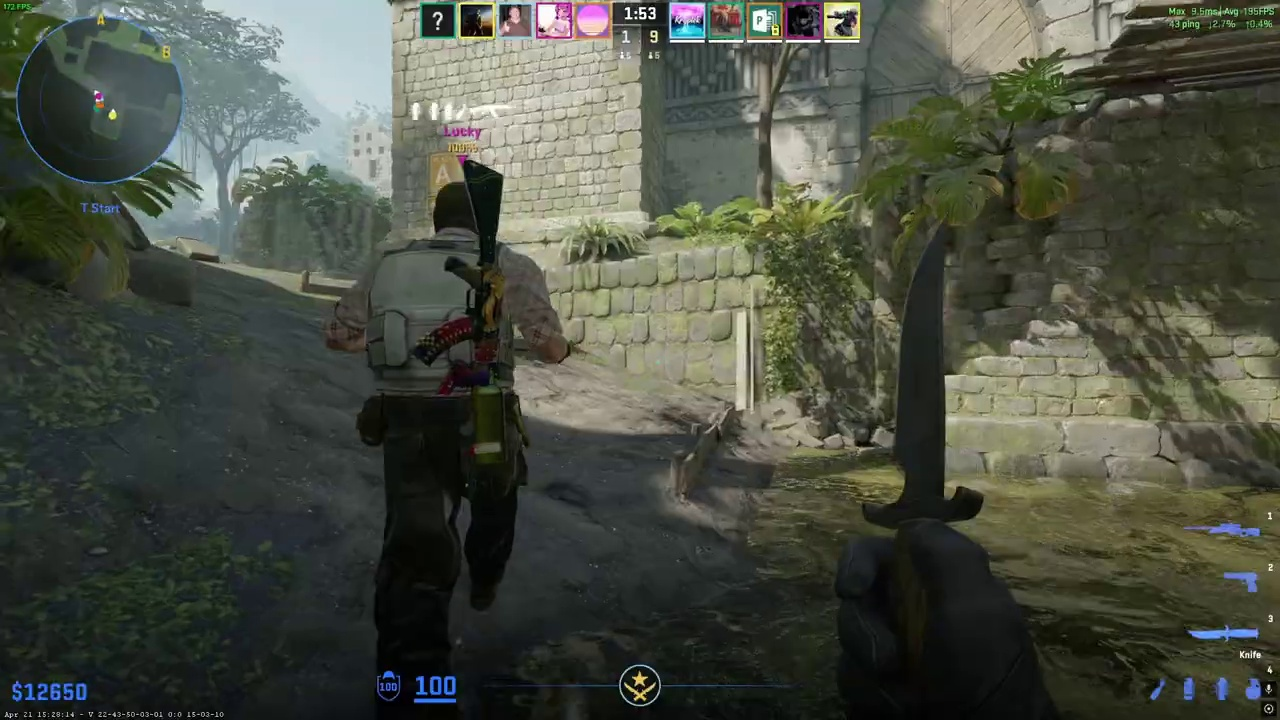Terrorist: (336, 182, 557, 688)
